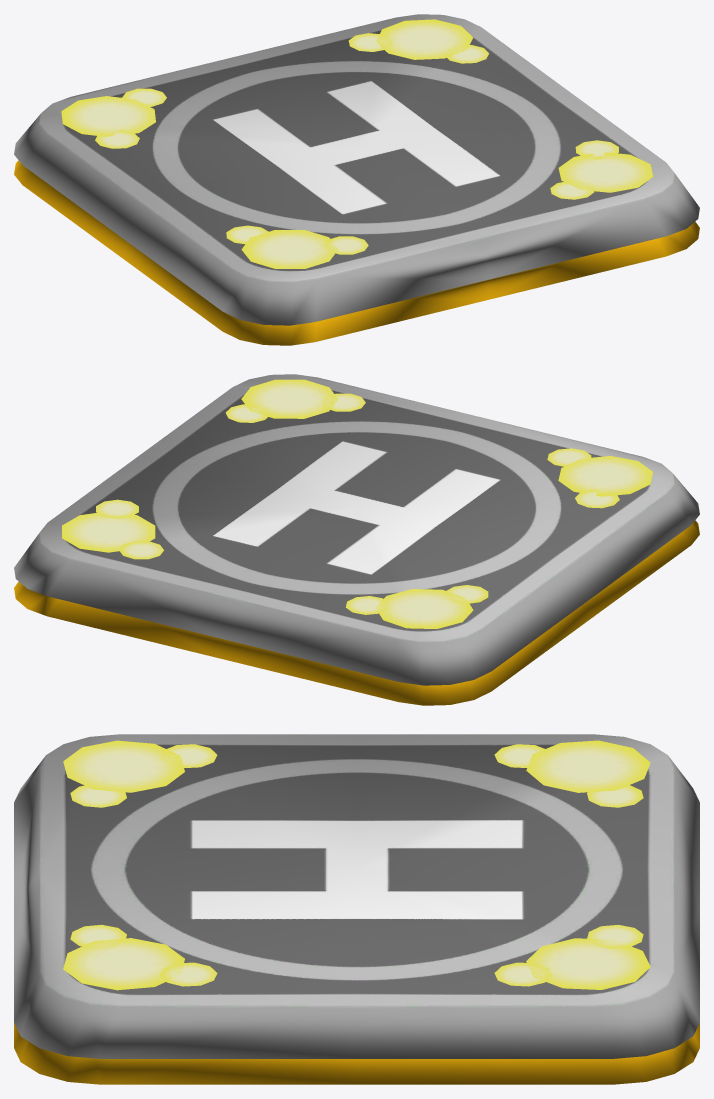
The picture shows the model from 3 angles, top to bottom: view 1: azimuth 30°, elevation 25°; view 2: azimuth 150°, elevation 25°; view 3: azimuth 270°, elevation 25°; orthographic projection. The views are drawn at different scales.
Parts seen in each view (by area): view 1: Helipad004, Helipad005, Helipad, Lights, LightsSmall; view 2: Helipad004, Helipad005, Helipad, Lights, LightsSmall; view 3: Helipad004, Helipad005, Lights, Helipad, LightsSmall.
Boxes of the visible parts, x1=… form: Helipad004: x1=14, y1=14, x2=699, y2=325; Helipad005: x1=40, y1=14, x2=664, y2=267; Helipad: x1=14, y1=160, x2=699, y2=345; Lights: x1=61, y1=19, x2=653, y2=268; LightsSmall: x1=95, y1=33, x2=618, y2=254; Helipad004: x1=14, y1=374, x2=699, y2=685; Helipad005: x1=40, y1=387, x2=665, y2=641; Helipad: x1=14, y1=520, x2=699, y2=705; Lights: x1=62, y1=379, x2=652, y2=628; LightsSmall: x1=96, y1=393, x2=619, y2=614; Helipad004: x1=14, y1=734, x2=699, y2=1058; Helipad005: x1=40, y1=734, x2=673, y2=1005; Lights: x1=63, y1=740, x2=650, y2=990; Helipad: x1=14, y1=1023, x2=699, y2=1084; LightsSmall: x1=70, y1=744, x2=643, y2=986.
Bounding box in the file's own units: 25.61 × 2.97 × 25.34.
Materials: 3 (3 with a texture image).
